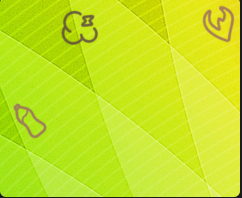cloud: (56, 6, 101, 50)
cola: (9, 98, 54, 143)
fire: (196, 3, 239, 47)
